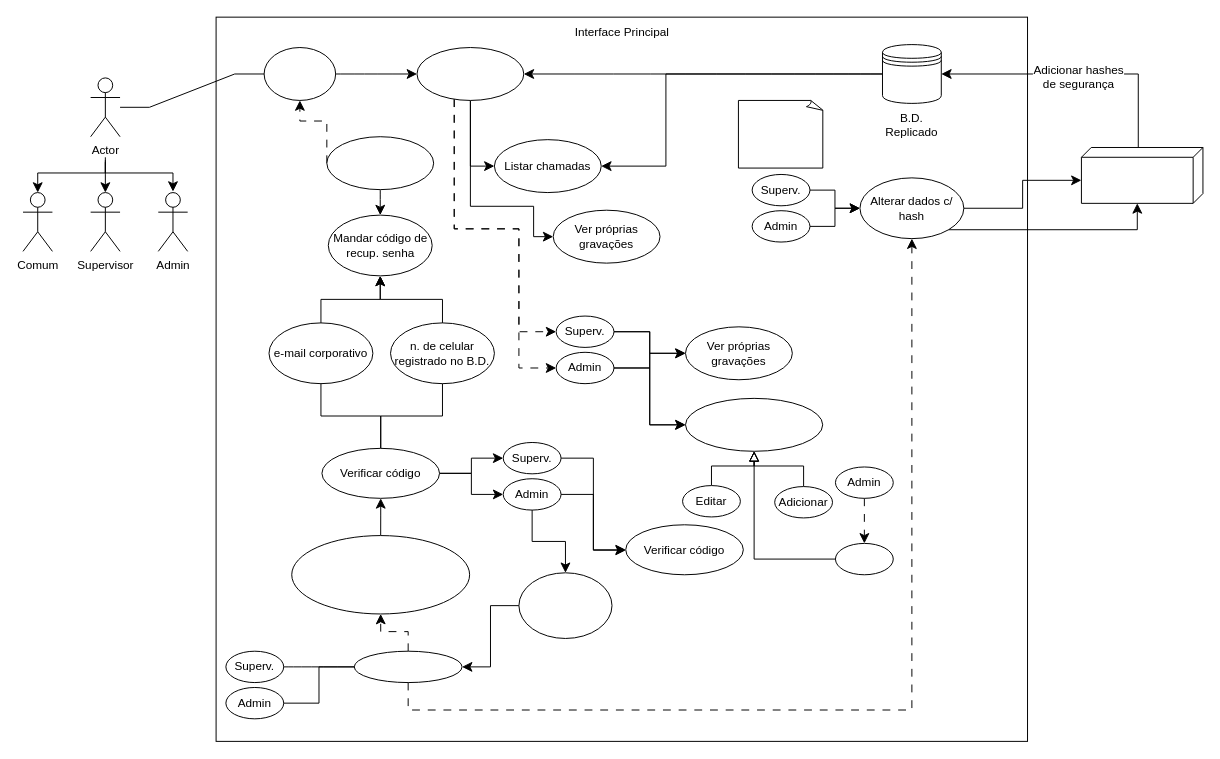
Image size: 1220x759. Some labels were removed from this diagram. The shapes that lost their labels are listed below. From the top down, each one's centre as x and y in pixels, then its label:
point (299, 73): Login
point (470, 73): Verificar credenciais
point (780, 133): Supervisor pode alterar coisas delimitadas
point (380, 163): Botão "esqueci a senha"
point (1141, 175): SERVIDOR
point (754, 424): Gerenciar contatos e agendas
point (380, 574): Solicitar mudança de senha ao nível de usuário maior
point (863, 558): Remover
point (565, 605): Alterar própria senha
point (407, 666): Senha alterada
